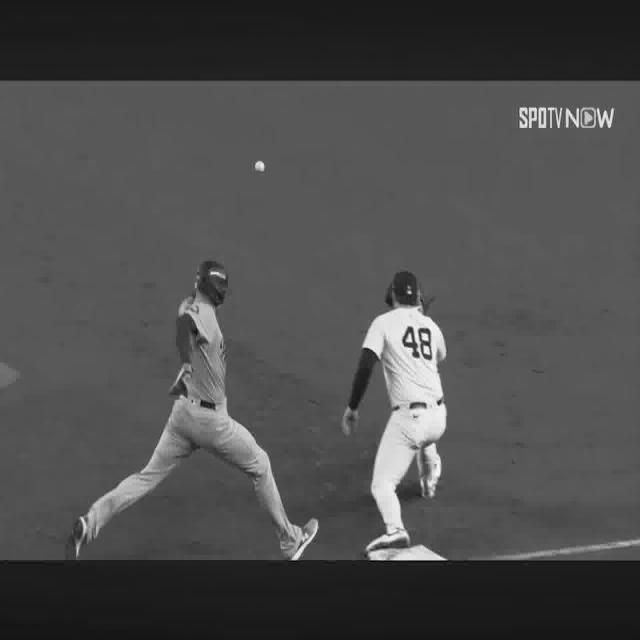base: (370, 546, 444, 562)
baseball: (255, 164, 262, 172)
shoe: (282, 518, 319, 562), (365, 527, 410, 553), (68, 517, 88, 560), (422, 453, 441, 498)
